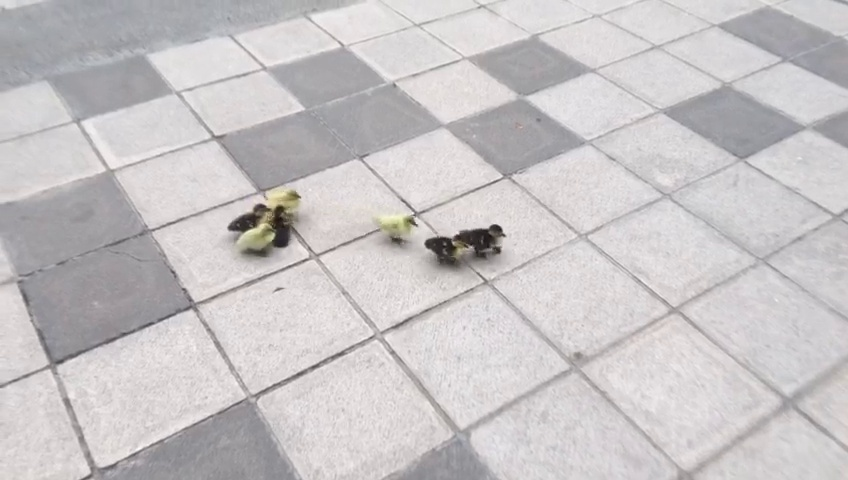patito: (461, 224, 508, 256), (422, 234, 470, 264), (375, 211, 417, 244), (237, 221, 276, 254), (269, 205, 297, 248), (228, 202, 272, 229), (265, 188, 302, 214)
